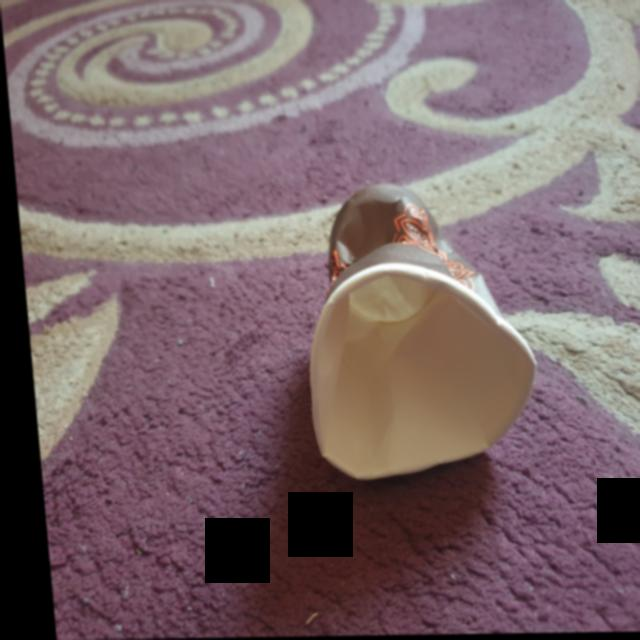cups: (271, 176, 542, 487)
